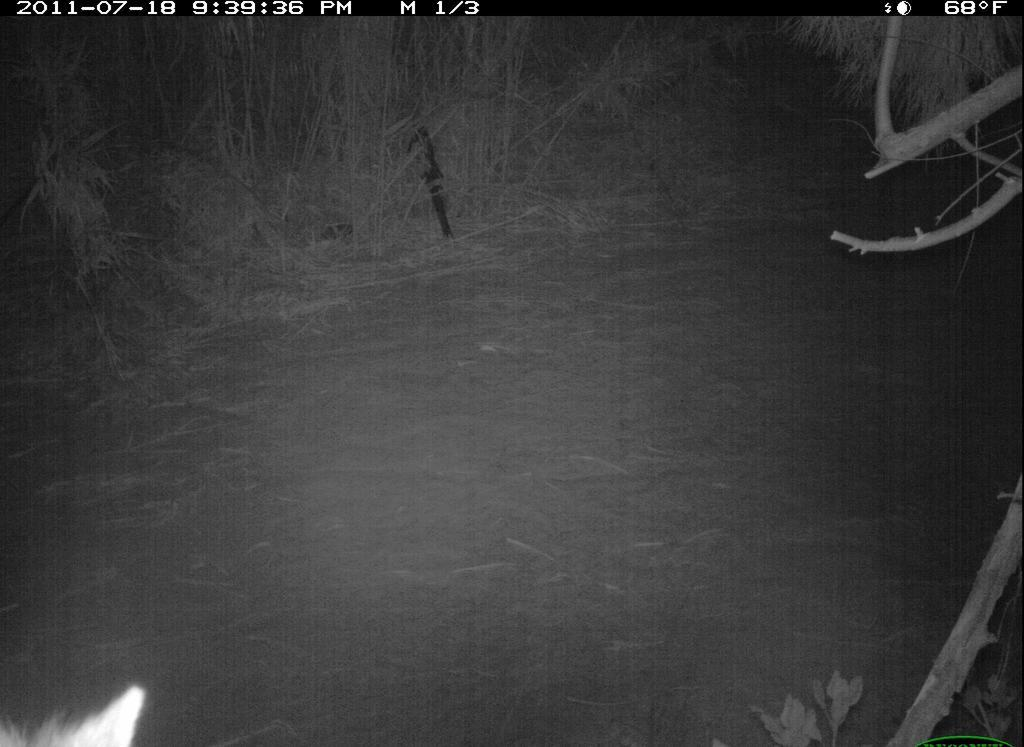raccoon: (1, 673, 161, 747)
